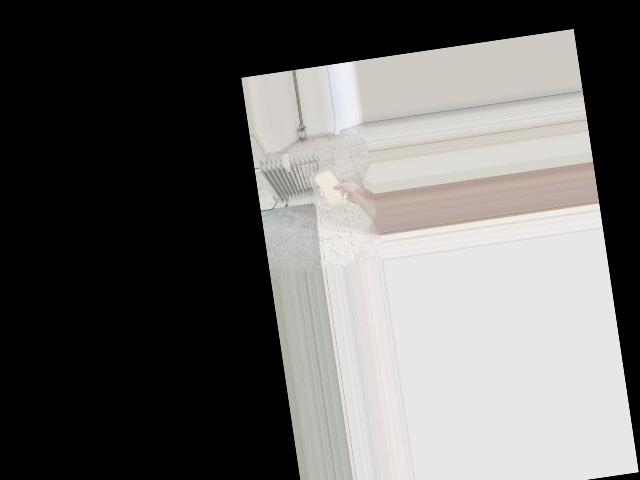cheese: (312, 164, 346, 209)
